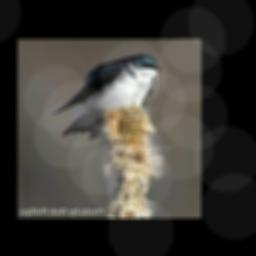Swallow: (51, 53, 165, 139)
